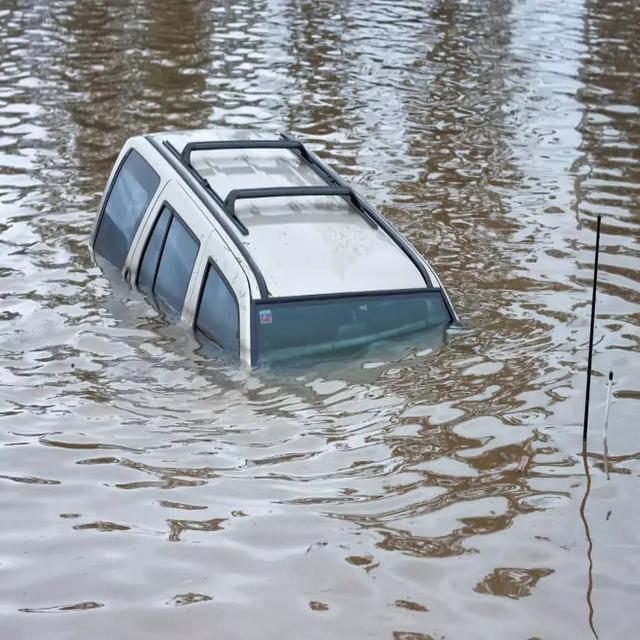Car-RiskLevel3: (83, 116, 467, 388)
